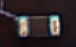COMP: (14, 13, 63, 40)
STAN: (1, 1, 19, 23), (1, 10, 19, 19), (1, 1, 5, 16)
